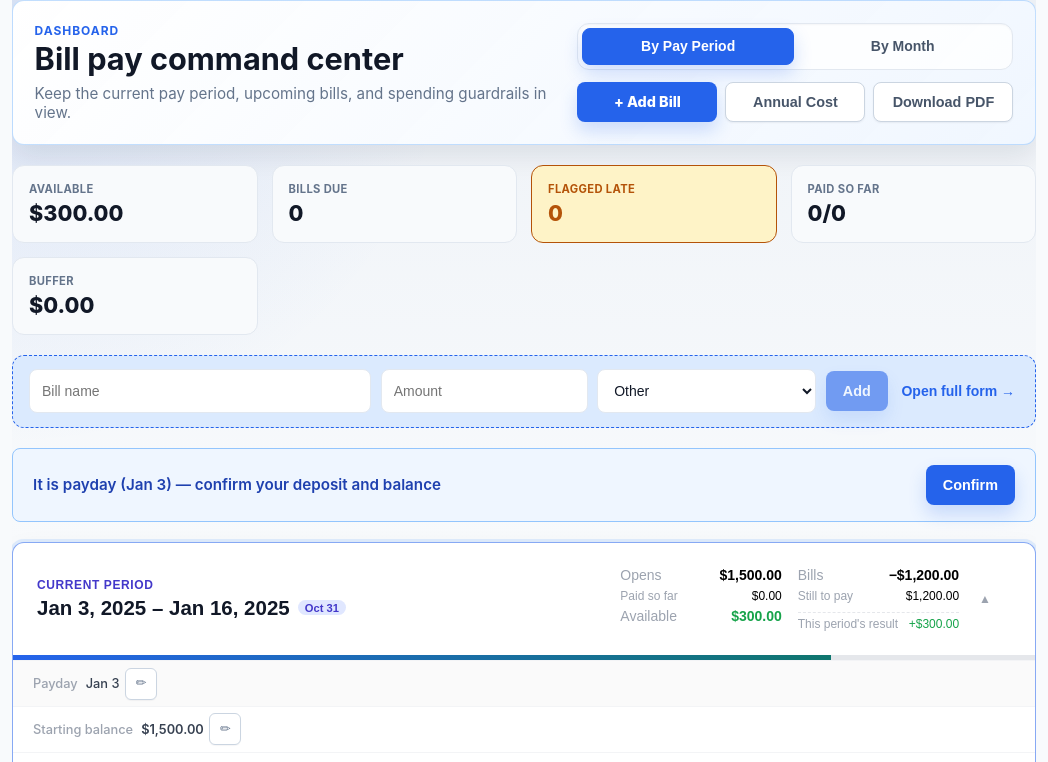
Test: Dashboard — monthly view toggle › switches to monthly view when 'By Month' is clicked
This screenshot has width=1048, height=762.
Click the button "By Month". click: (903, 46)
box: [797,28,1008,65]
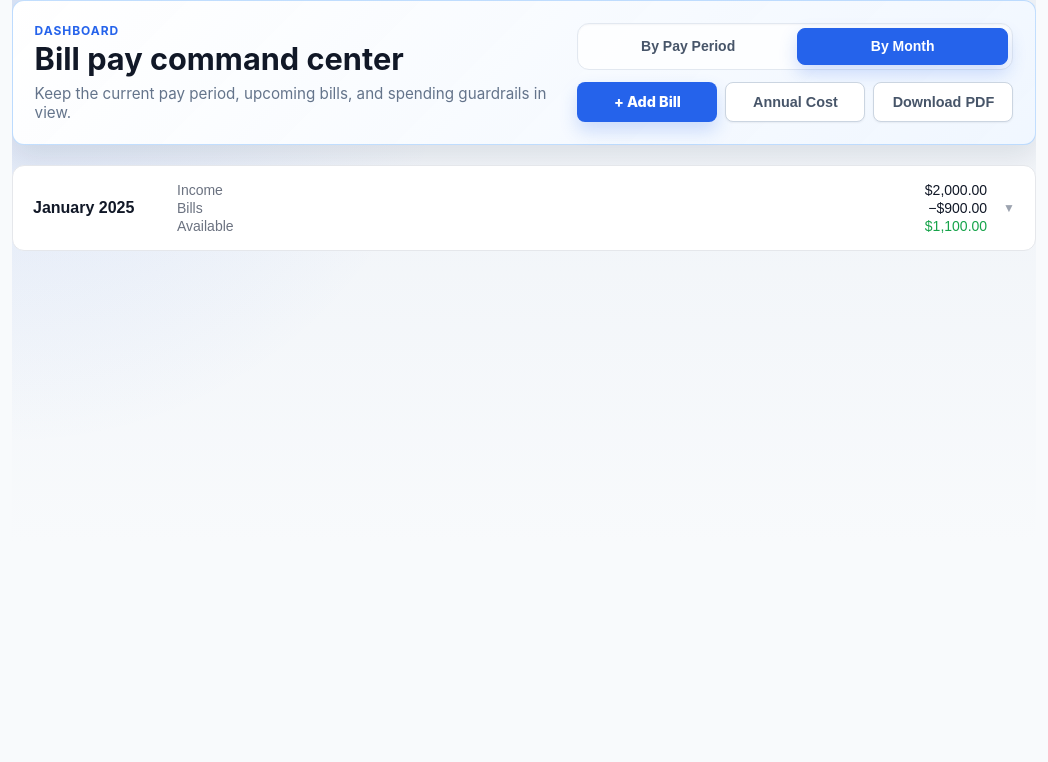
Expected: the text "January 2025" is shown, [33,199,134,216]
